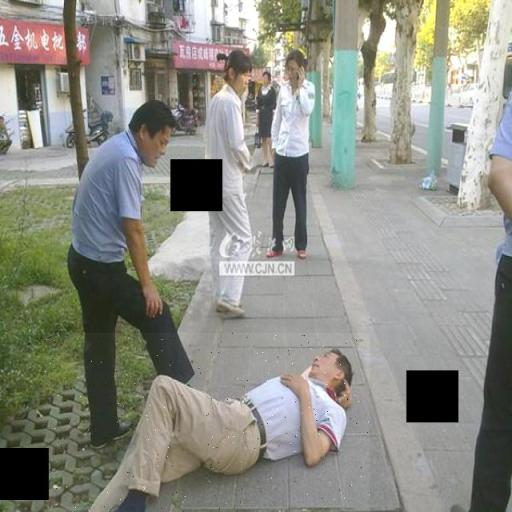Fall: (43, 333, 370, 512)
